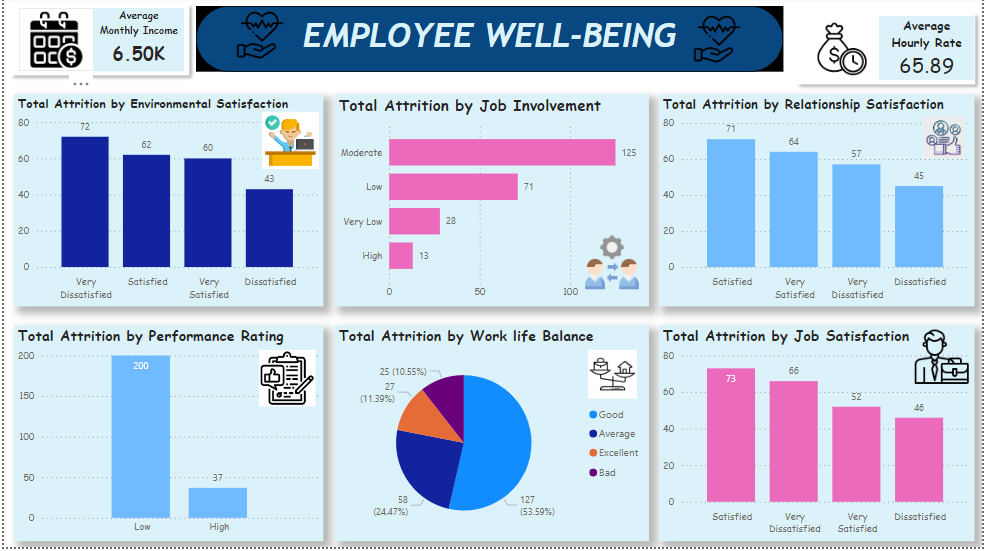

Layout of this report page (visuals, bound fields, positions):
{"tool":"powerbi","page":{"name":"Emp WB","canvas":[1280,720],"ordinal":4},"visuals":[{"type":"shape","box":[251.2,11.2,768.8,86.2],"z":0},{"type":"shape","box":[0,0,251.2,111.2],"z":1000},{"type":"card","title":"Average Monthly Income","fields":{"Values":["Avg(HR-Employee-Attrition.Monthly Income)"]},"box":[117.5,13.8,117.5,82.5],"z":2000},{"type":"shape","box":[1028.8,11.2,251.2,111.2],"z":3000},{"type":"card","title":"Average Hourly Rate","fields":{"Values":["Avg(HR-Employee-Attrition.Hourly Rate)"]},"box":[1145,25,125,83.8],"z":4000},{"type":"image","box":[1048.8,27.5,96.2,81.2],"z":5000},{"type":"image","box":[20,13.8,97.5,82.5],"z":6000},{"type":"columnChart","title":"Total Attrition by Environmental Satisfaction","fields":{"Y":["Sum(HR-Employee-Attrition.Attrition Count)"],"Category":["HR-Employee-Attrition.Environment Satisfaction (groups)"]},"box":[12.5,127.5,405,277.5],"z":7000},{"type":"clusteredBarChart","title":"Total Attrition by Job Involvement","fields":{"Y":["Sum(HR-Employee-Attrition.Attrition Count)"],"Category":["HR-Employee-Attrition.Job Involvement (groups)"]},"box":[433.8,127.5,411.2,277.5],"z":8000},{"type":"columnChart","title":"Total Attrition by Relationship Satisfaction","fields":{"Y":["Sum(HR-Employee-Attrition.Attrition Count)"],"Category":["HR-Employee-Attrition.Relationship Satisfaction (groups)"]},"box":[857.5,127.5,412.5,277.5],"z":9000},{"type":"columnChart","title":"Total Attrition by Performance Rating","fields":{"Y":["Sum(HR-Employee-Attrition.Attrition Count)"],"Category":["HR-Employee-Attrition.Performance Rating (groups)"]},"box":[12.5,428.8,405,282.5],"z":10000},{"type":"pieChart","title":"Total Attrition by Work life Balance","fields":{"Y":["Sum(HR-Employee-Attrition.Attrition Count)"],"Category":["HR-Employee-Attrition.Work Life Balance (groups)"]},"box":[433.8,428.8,411.2,282.5],"z":11000},{"type":"columnChart","title":"Total Attrition by Job Satisfaction","fields":{"Y":["Sum(HR-Employee-Attrition.Attrition Count)"],"Category":["HR-Employee-Attrition.Job Satisfaction (groups)"]},"box":[857.5,428.8,412.5,282.5],"z":12000},{"type":"image","box":[332.5,137.5,85,101.2],"z":13000},{"type":"image","box":[747.5,305,97.5,85],"z":14000},{"type":"image","box":[1190,151.2,80,63.8],"z":15000},{"type":"image","box":[325,456.2,92.5,83.8],"z":16000},{"type":"image","box":[747.5,456.2,97.5,73.8],"z":17000},{"type":"image","box":[1186.2,428.8,83.8,82.5],"z":18000},{"type":"image","box":[897.5,20,71.2,71.2],"z":19000},{"type":"image","box":[300,13.8,71.2,71.2],"z":20000}]}

Visuals, with their boxes in screenshot pixels (x1, y1, x2, y2), scaled from the page's 1280x720 canvas onto the 986x551 screenshot:
shape: {"x1": 194, "y1": 9, "x2": 786, "y2": 75}
shape: {"x1": 0, "y1": 0, "x2": 194, "y2": 85}
"Average Monthly Income" card: {"x1": 91, "y1": 11, "x2": 181, "y2": 74}
shape: {"x1": 792, "y1": 9, "x2": 985, "y2": 94}
"Average Hourly Rate" card: {"x1": 882, "y1": 19, "x2": 978, "y2": 83}
image: {"x1": 808, "y1": 21, "x2": 882, "y2": 83}
image: {"x1": 15, "y1": 11, "x2": 91, "y2": 74}
"Total Attrition by Environmental Satisfaction" columnChart: {"x1": 10, "y1": 98, "x2": 322, "y2": 310}
"Total Attrition by Job Involvement" clusteredBarChart: {"x1": 334, "y1": 98, "x2": 651, "y2": 310}
"Total Attrition by Relationship Satisfaction" columnChart: {"x1": 661, "y1": 98, "x2": 978, "y2": 310}
"Total Attrition by Performance Rating" columnChart: {"x1": 10, "y1": 328, "x2": 322, "y2": 544}
"Total Attrition by Work life Balance" pieChart: {"x1": 334, "y1": 328, "x2": 651, "y2": 544}
"Total Attrition by Job Satisfaction" columnChart: {"x1": 661, "y1": 328, "x2": 978, "y2": 544}
image: {"x1": 256, "y1": 105, "x2": 322, "y2": 183}
image: {"x1": 576, "y1": 233, "x2": 651, "y2": 298}
image: {"x1": 917, "y1": 116, "x2": 978, "y2": 165}
image: {"x1": 250, "y1": 349, "x2": 322, "y2": 413}
image: {"x1": 576, "y1": 349, "x2": 651, "y2": 406}
image: {"x1": 914, "y1": 328, "x2": 978, "y2": 391}
image: {"x1": 691, "y1": 15, "x2": 746, "y2": 70}
image: {"x1": 231, "y1": 11, "x2": 286, "y2": 65}
